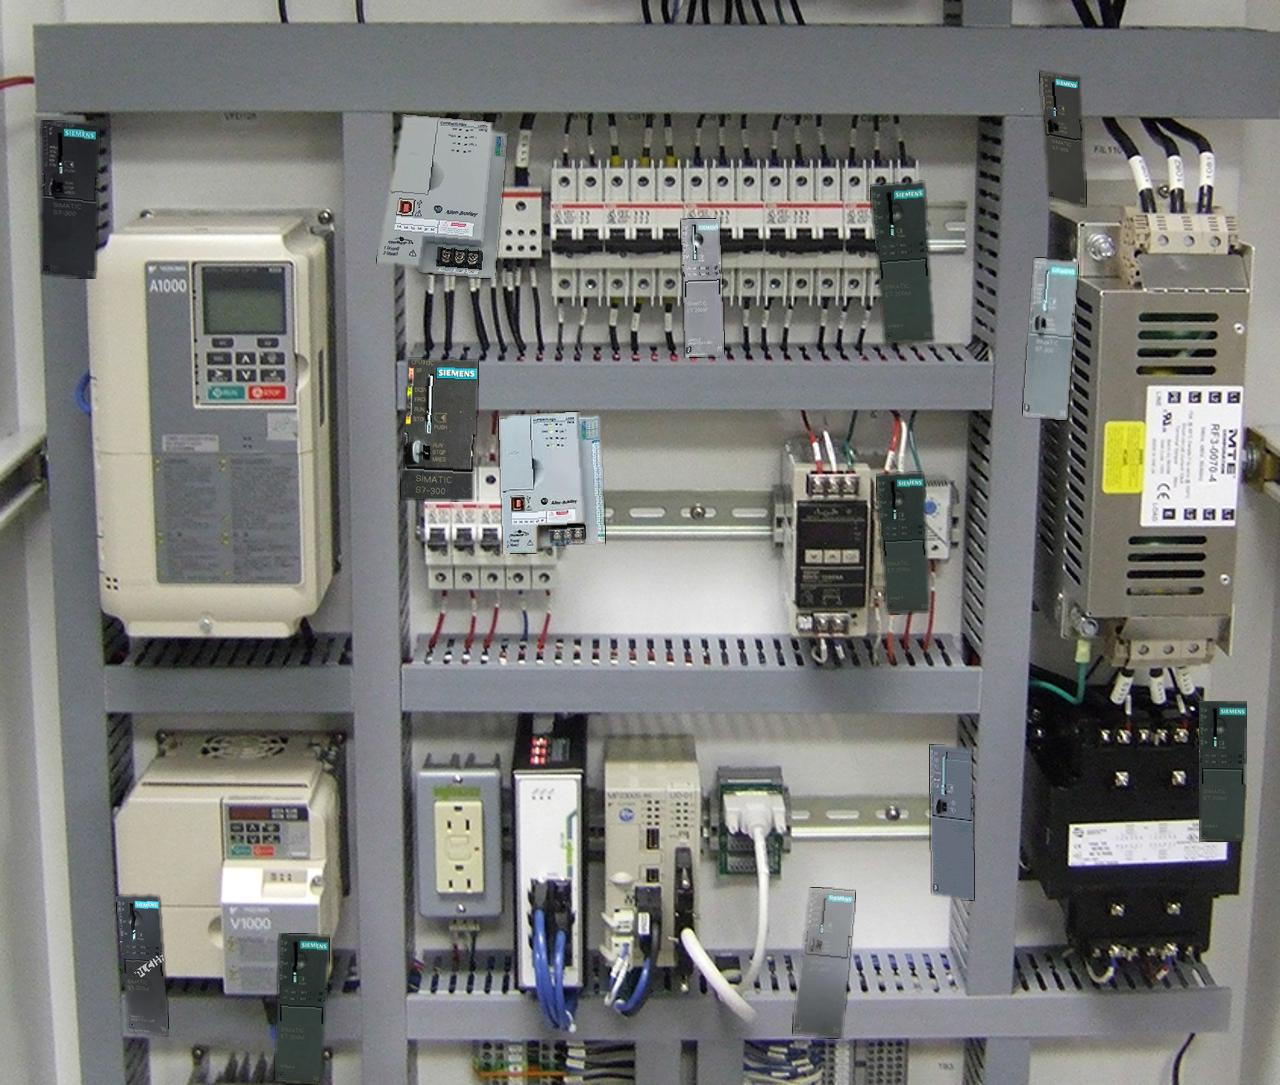AllenBradley: (377, 114, 506, 277), (500, 412, 604, 553)
Siemens: (400, 360, 477, 501), (41, 119, 99, 278), (793, 888, 854, 1038), (1023, 258, 1077, 419), (930, 745, 973, 899), (1040, 72, 1085, 205)
